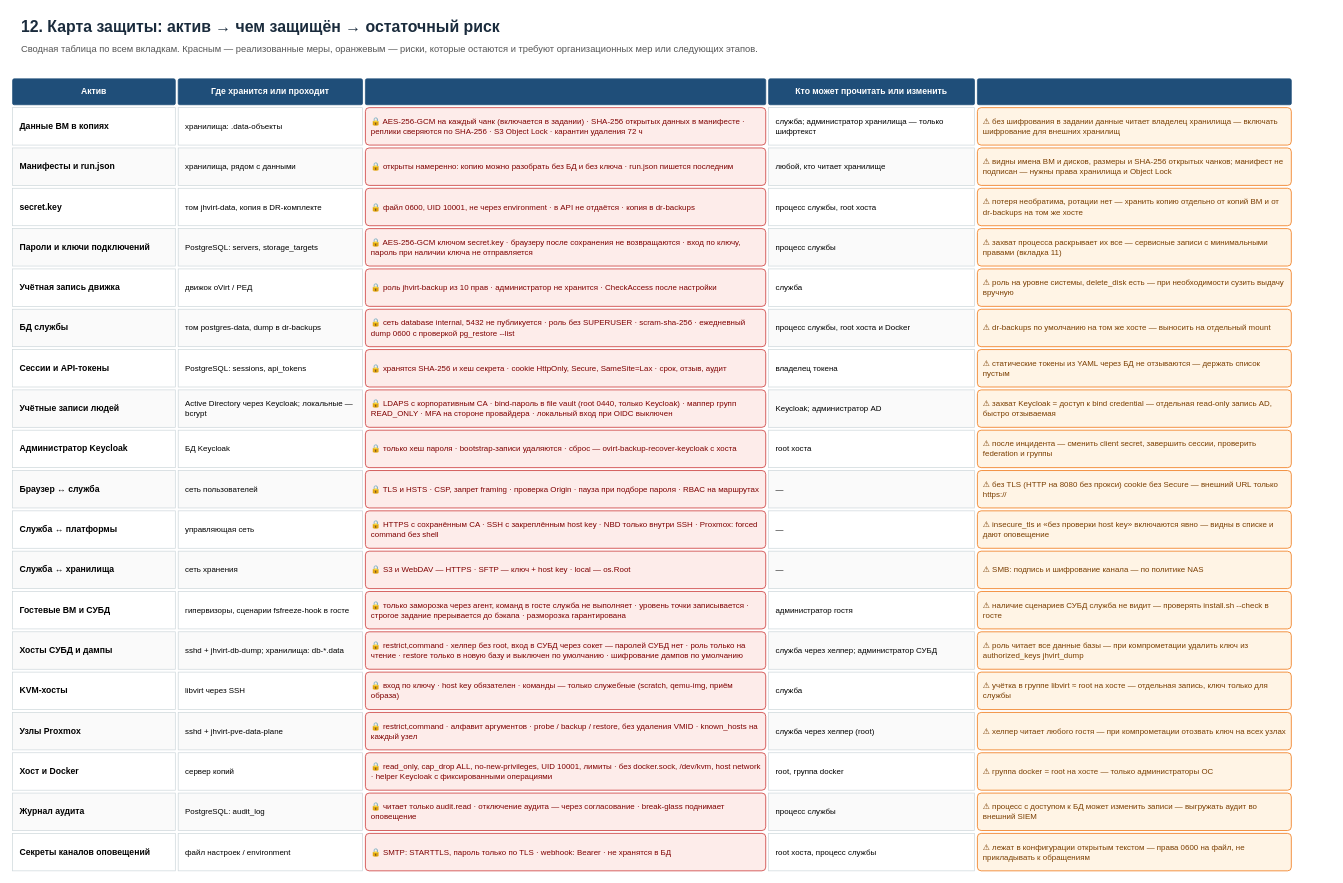
Image size: 1343x883. Some labels were removed from this diagram. The shapes that lost their labels are listed below. From the top down, each one's centre as x and y in pixels, then its label:
(x=565, y=91): Чем защищено
(x=1134, y=91): Остаточный риск и что с ним делать
